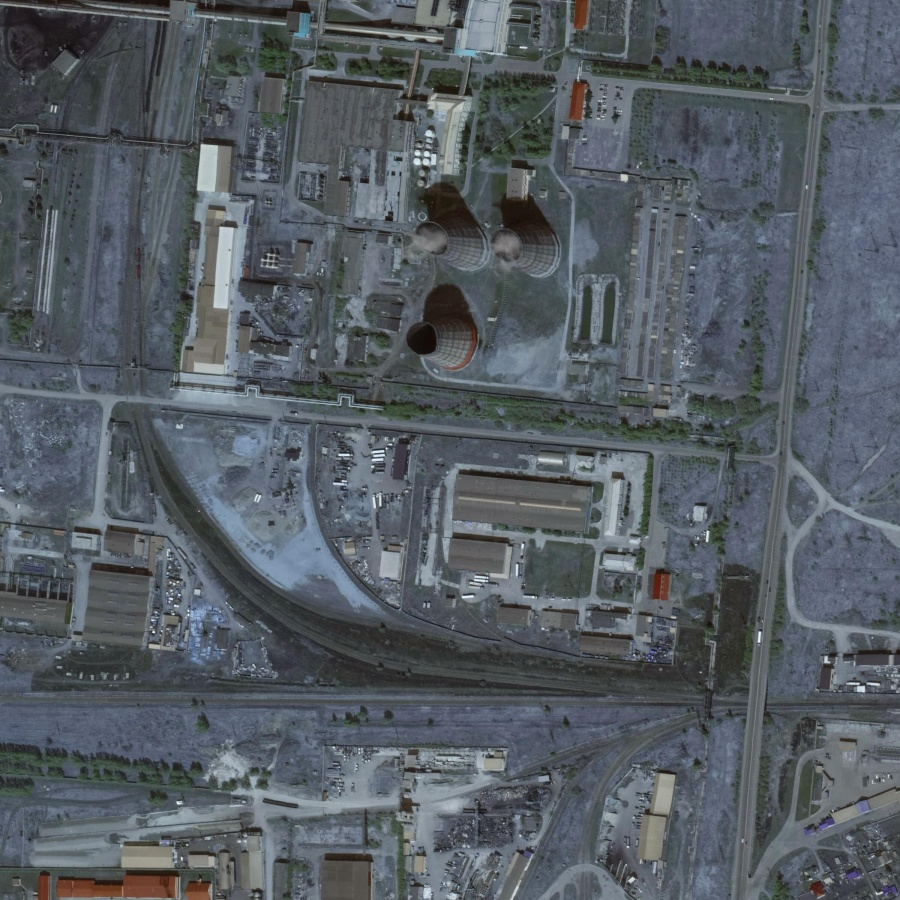PowerPlant: (398, 153, 587, 408)
